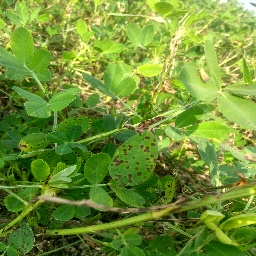GroundNut_Leaf: (109, 128, 160, 188), (217, 95, 255, 130), (102, 61, 136, 96), (182, 63, 215, 99), (54, 115, 92, 143), (11, 27, 34, 63), (83, 152, 109, 183), (7, 223, 34, 251), (172, 106, 205, 128), (126, 23, 153, 47), (18, 133, 51, 149), (51, 92, 77, 111), (30, 158, 50, 182), (54, 206, 77, 221)
